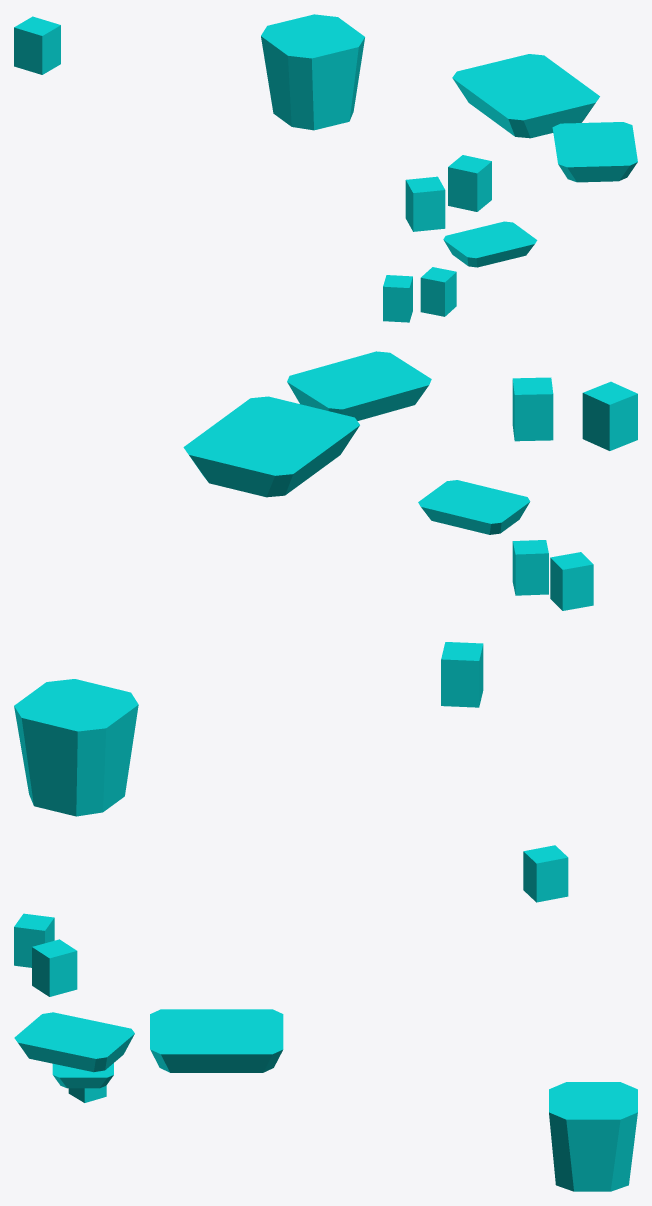
Rendered from SM_Veh_Food_Truck_01_Food_Insert_01_Collision.fbx.
3 views of the same model, one above another, from view 1: azimuth 30°, elevation 25°; view 2: azimuth 150°, elevation 25°; view 3: azimuth 270°, elevation 25° (orthographic). The views are drawn at different scales.
Parts seen in each view (by area): view 1: SM_Veh_Food_Truck_01_Food_Insert_01_Collision; view 2: SM_Veh_Food_Truck_01_Food_Insert_01_Collision; view 3: SM_Veh_Food_Truck_01_Food_Insert_01_Collision.
Part boxes in pixels (x1,y1,x2,y2): SM_Veh_Food_Truck_01_Food_Insert_01_Collision: (14, 14, 637, 322); SM_Veh_Food_Truck_01_Food_Insert_01_Collision: (14, 351, 637, 816); SM_Veh_Food_Truck_01_Food_Insert_01_Collision: (14, 845, 637, 1191).
Size of the model in its own units: 259 by 112 by 360.
